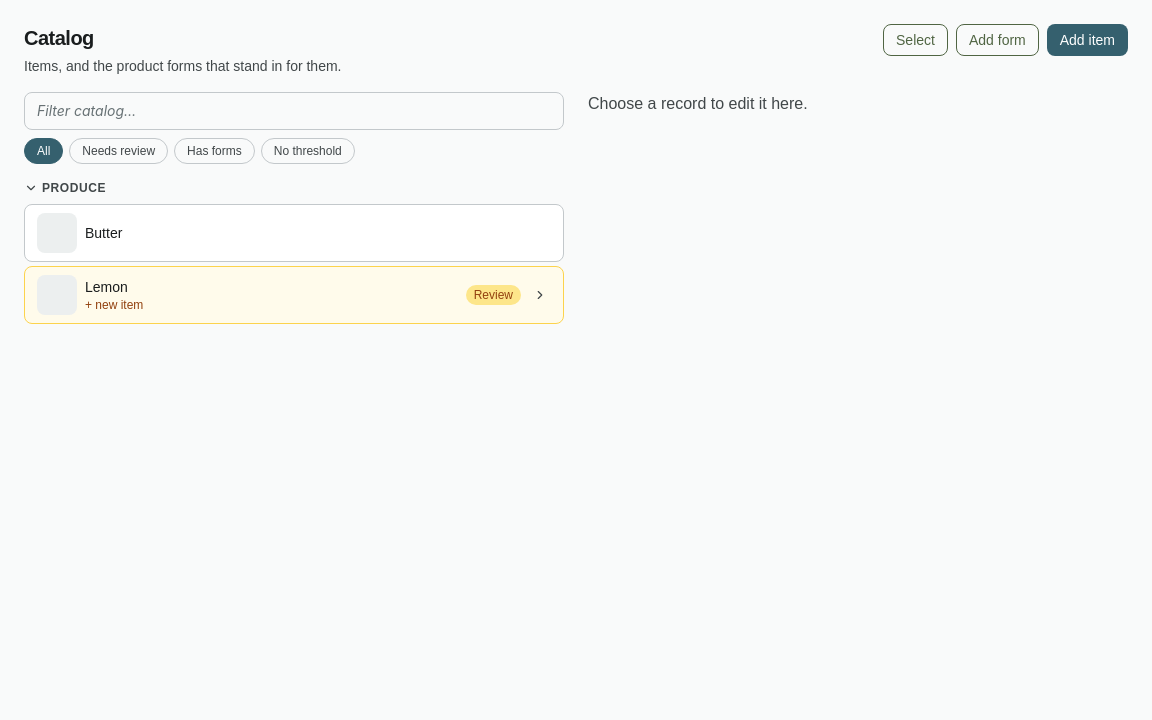
CatalogPage — the filter chips › shows only records awaiting review, opened, with the AI’s words and the text they came from
Click the button with test id "catalog-filter-needs-review".
click(119, 151)  # box [69,138,168,164]
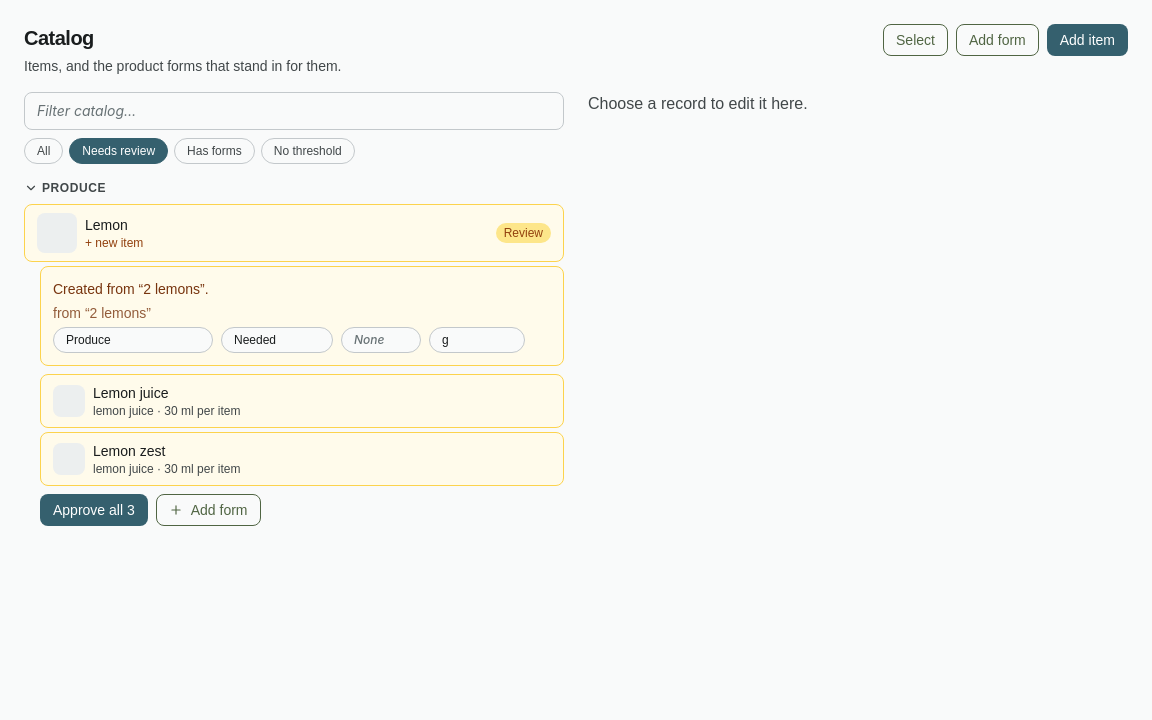
Expected: the button with test id "catalog-row-disclosure-wide" is gone
Expected: the text with test id "catalog-row-reasoning" shows "Created from “2 lemons”", [53,281,209,297]
Expected: the text with test id "catalog-row-source" shows "2 lemons", [53,305,151,321]
